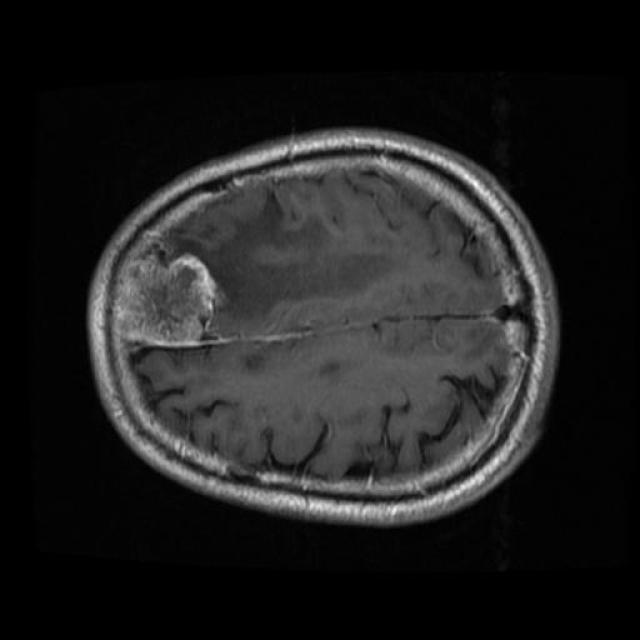Meningioma: (116, 249, 216, 346)
